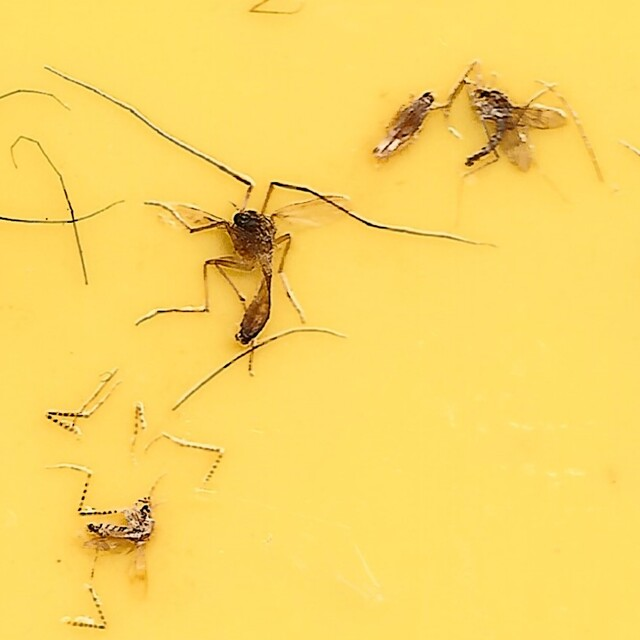Nematocera: (138, 128, 316, 359), (460, 80, 565, 182), (75, 469, 162, 560)
Trichoptera: (369, 88, 441, 161)
